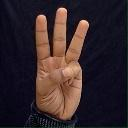hand: (34, 7, 89, 121)
